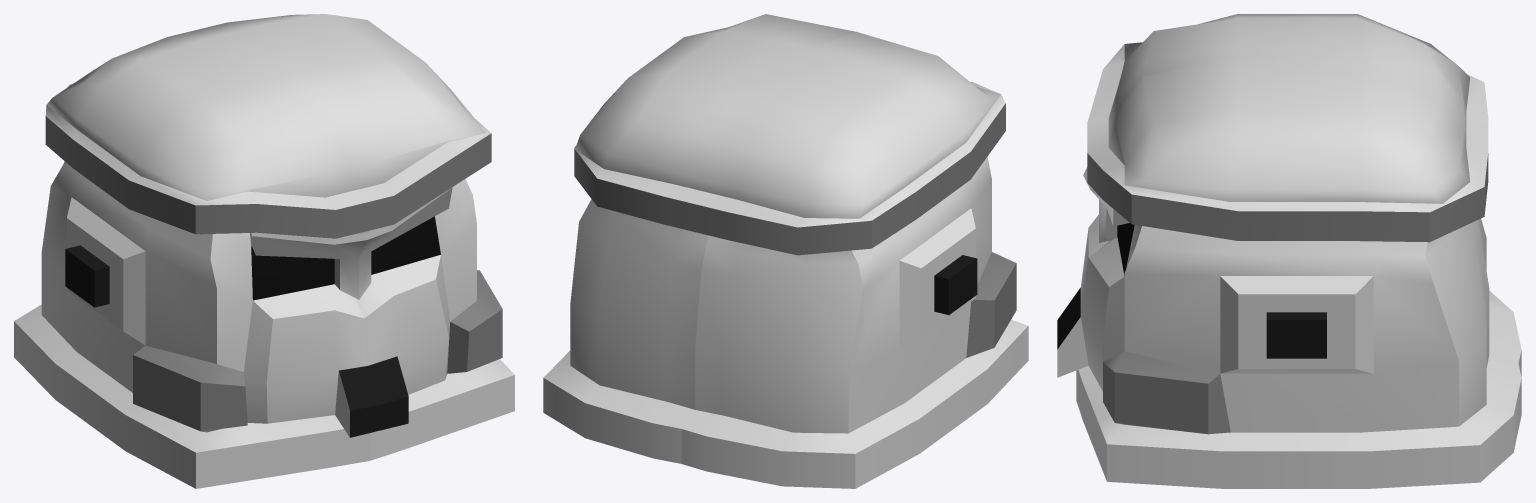
The model's file is SW_stormtrooper_Helmet.fbx.
3 renders of one model, left to right at view 1: azimuth 30°, elevation 25°; view 2: azimuth 150°, elevation 25°; view 3: azimuth 270°, elevation 25°, orthographic. The views are drawn at different scales.
Parts seen in each view (by area): view 1: SW_StormTrooper_helmet; view 2: SW_StormTrooper_helmet; view 3: SW_StormTrooper_helmet.
Part boxes in pixels (<box>): SW_StormTrooper_helmet: <box>14,14,514,488</box>; SW_StormTrooper_helmet: <box>543,14,1028,488</box>; SW_StormTrooper_helmet: <box>1057,14,1521,488</box>.
Bounding box in the file's own units: 102 × 89.84 × 108.
